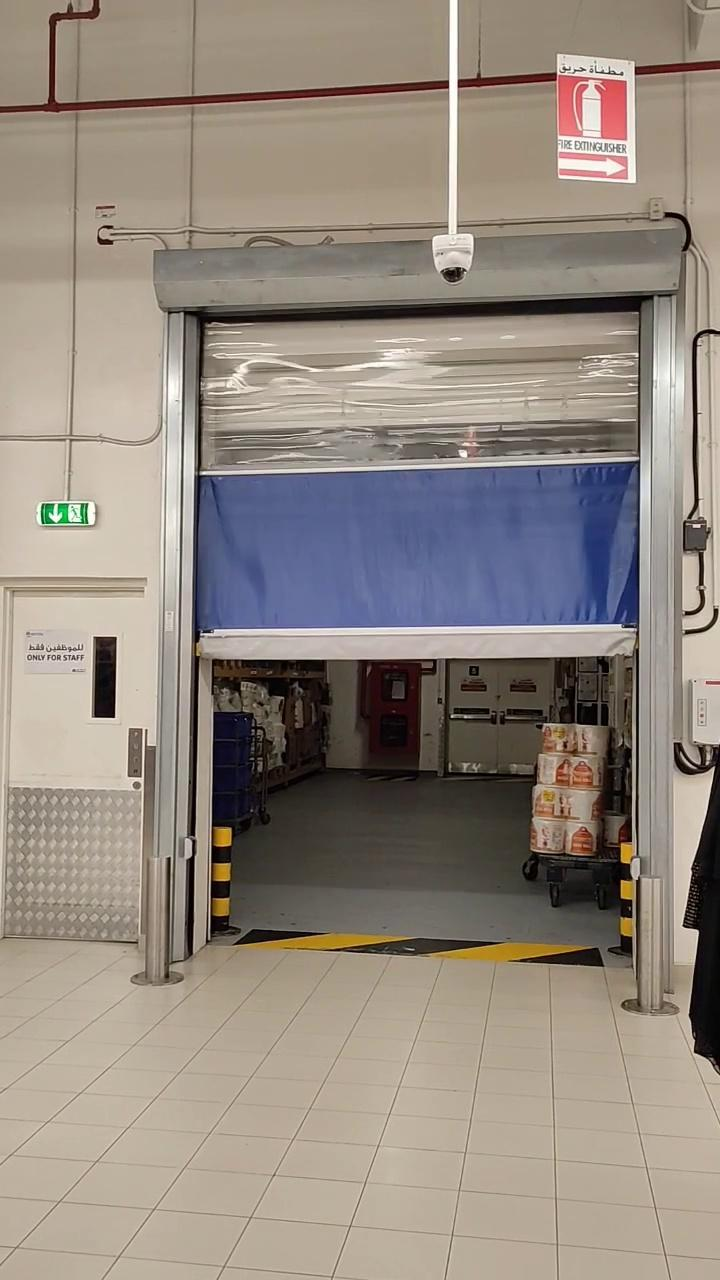Strip: (236, 918, 605, 975)
